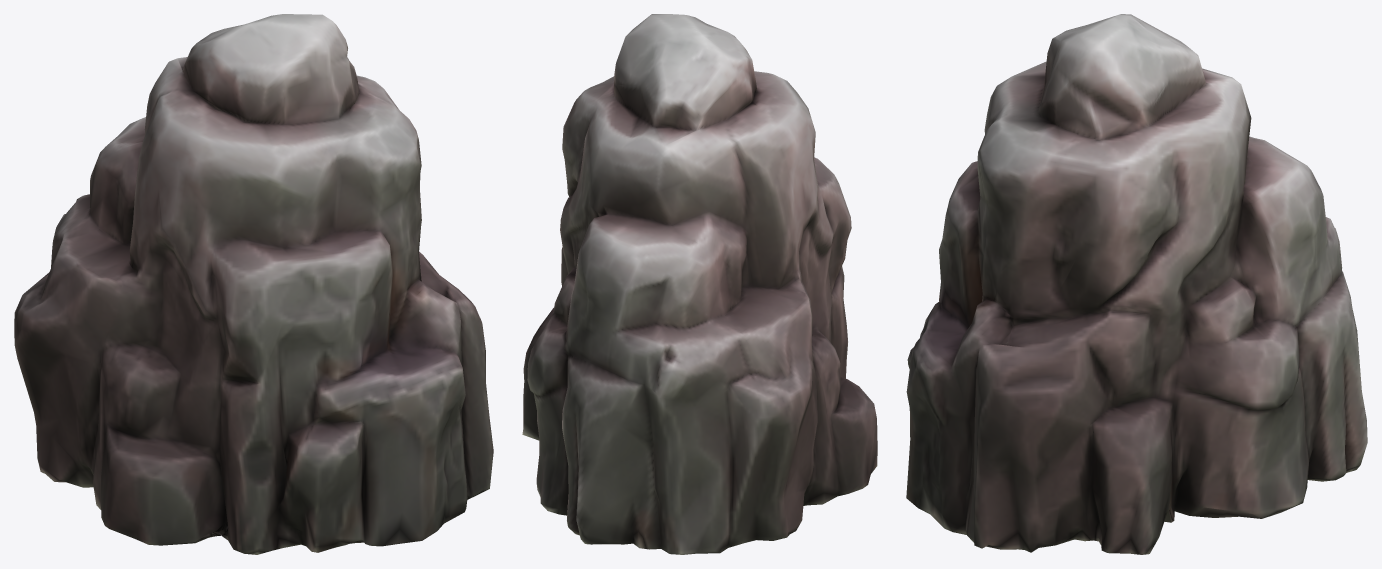
The model's file is o3_roccia_11.glb.
The picture shows the model from 3 angles, left to right: view 1: azimuth 30°, elevation 25°; view 2: azimuth 150°, elevation 25°; view 3: azimuth 270°, elevation 25°; orthographic projection. The views are drawn at different scales.
Parts seen in each view (by area): view 1: sb_modello; view 2: sb_modello; view 3: sb_modello.
Boxes of the visible parts, x1,y1,x2,y2 form: sb_modello: (14, 14, 493, 554); sb_modello: (522, 14, 877, 554); sb_modello: (906, 14, 1367, 554).
Bounding box in the file's own units: 4.23 × 5.29 × 4.84.
Materials: 1 (1 with a texture image).
